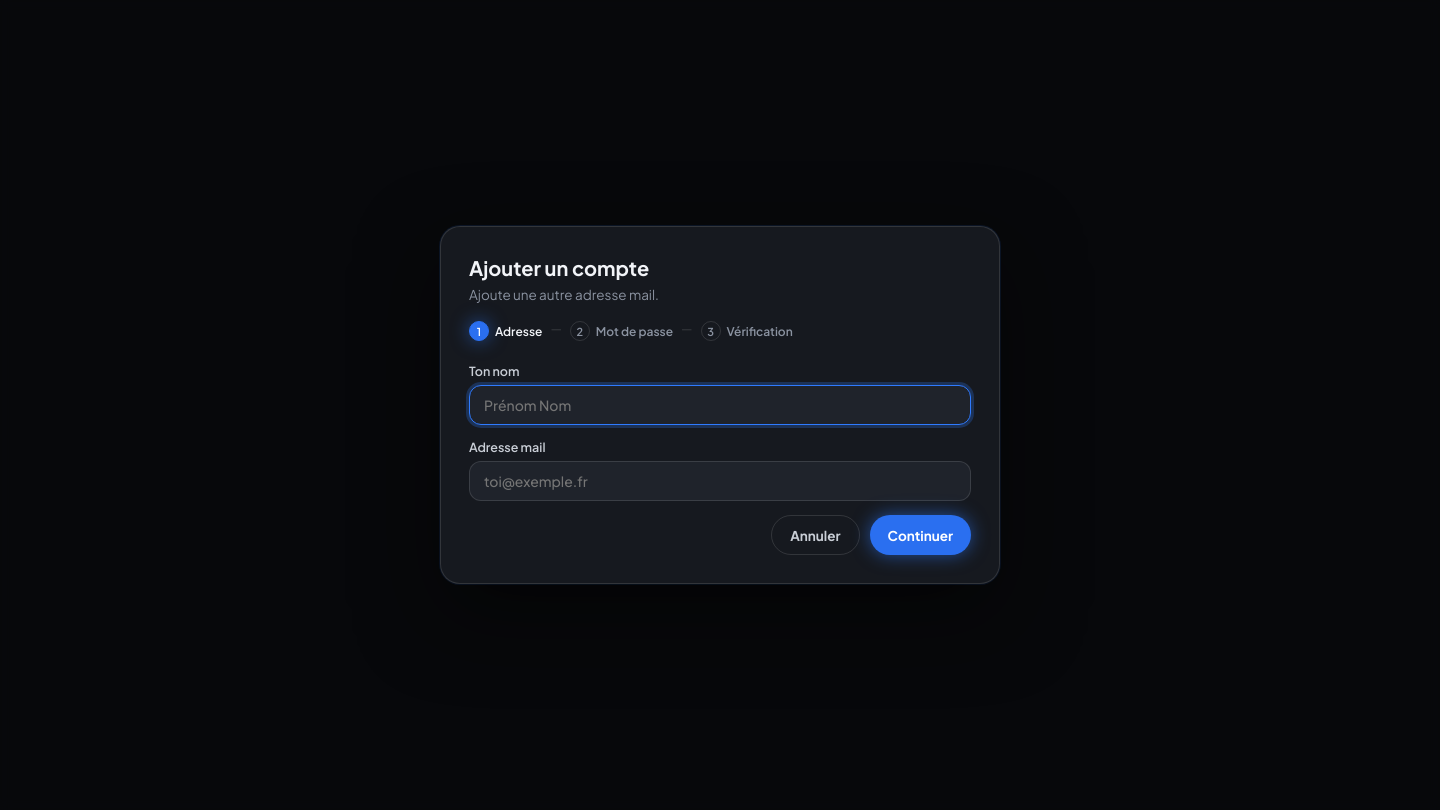
Scenario: unknown domain offers OVH or manual
The image size is (1440, 810).
Type "Moi" into the field labelled "Ton nom" at (720, 405), box x1=469 y1=385 x2=971 y2=425
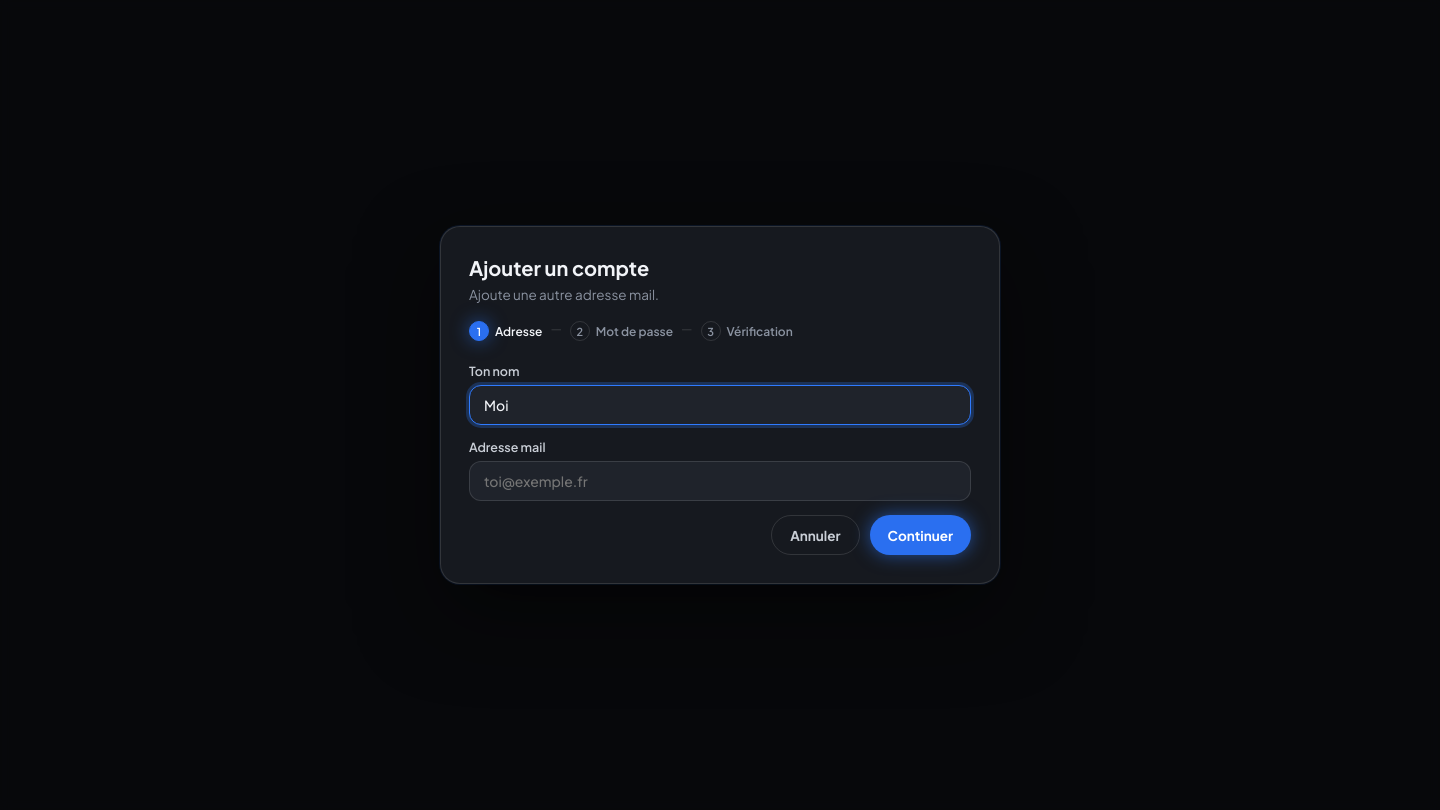
Type "contact@mondomaine.fr" into the field labelled "Adresse mail" at (720, 481), box x1=469 y1=461 x2=971 y2=501
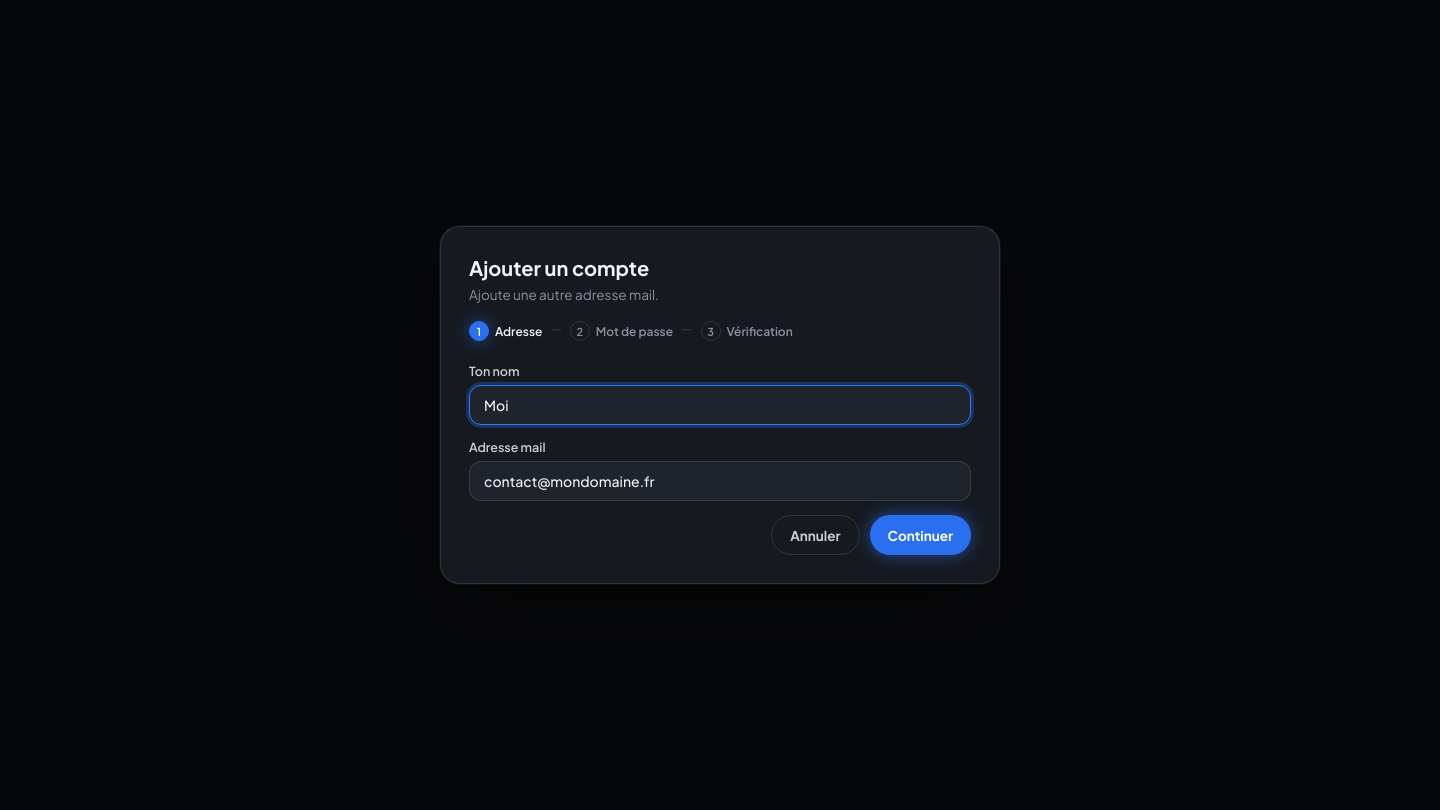
Click the button "Continuer" at (920, 535), box x1=870 y1=515 x2=971 y2=555
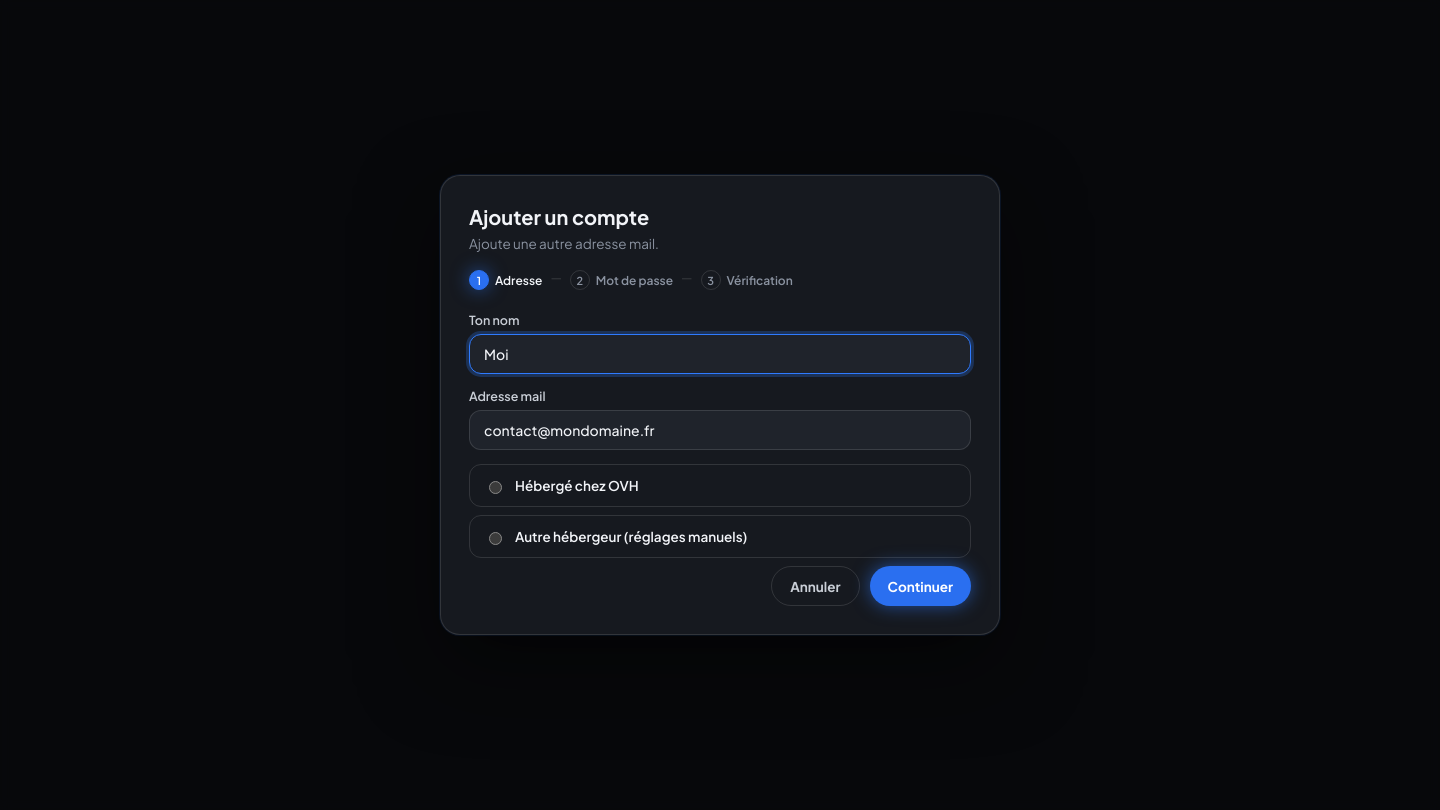
Expected: the radio button labelled "Hébergé chez OVH" is shown, x1=489 y1=480 x2=502 y2=494
Expected: the radio button labelled "Autre hébergeur (réglages manuels)" is shown, x1=489 y1=532 x2=502 y2=544
